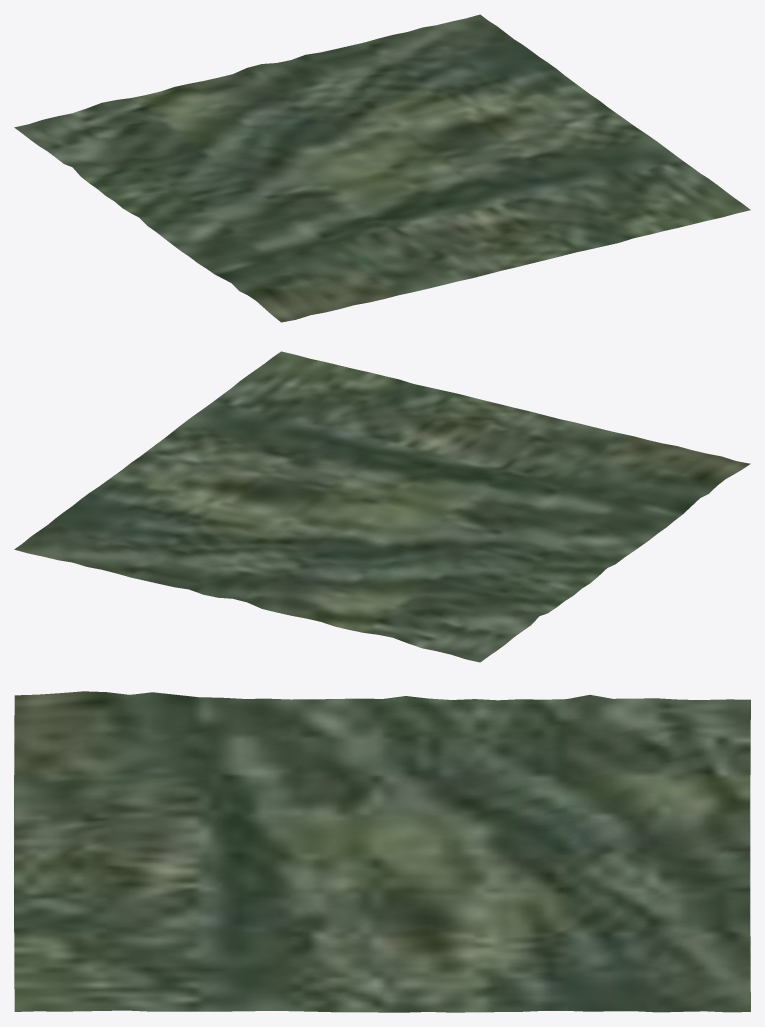
The picture shows the model from 3 angles, top to bottom: view 1: azimuth 30°, elevation 25°; view 2: azimuth 150°, elevation 25°; view 3: azimuth 270°, elevation 25°; orthographic projection. The views are drawn at different scales.
Bounding box in the file's own units: 62923 × 975 × 62480.
1 material, 1 textured.
